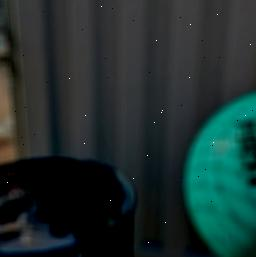algae: (189, 87, 256, 257)
